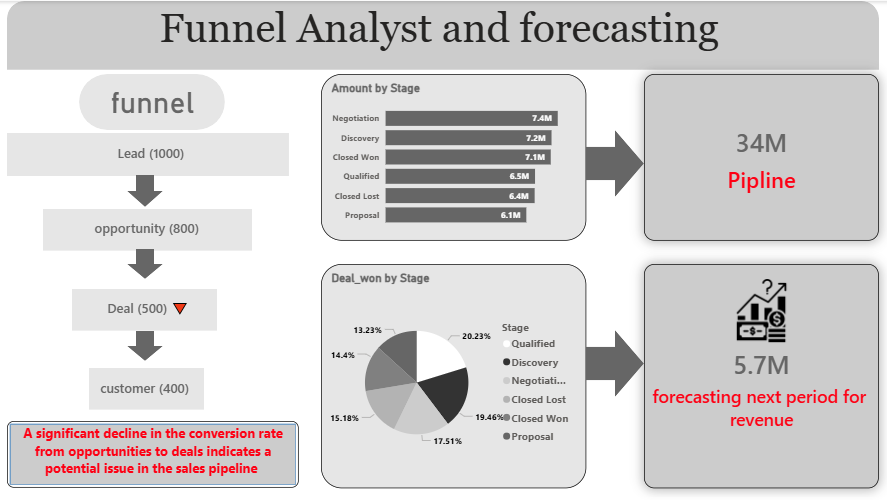

What the dashboard file says about the page in this screenshot:
{"tool":"powerbi","page":{"name":"Funnel & forecasting ","canvas":[1280,720],"ordinal":3},"visuals":[{"type":"shape","box":[10.1,0,1255.7,99.4],"z":0},{"type":"shape","box":[10.1,190.1,406.1,61.9],"z":1000},{"type":"shape","box":[61.9,299.5,301,60.5],"z":2000},{"type":"shape","box":[103.7,414.7,208.8,60.5],"z":3000},{"type":"shape","box":[128.2,528.5,165.6,60.5],"z":4000},{"type":"shape","box":[182.9,250.6,51.8,46.1],"z":5000},{"type":"shape","box":[182.9,357.1,51.8,43.2],"z":6000},{"type":"shape","box":[182.9,475.2,51.8,43.2],"z":7000},{"type":"textbox","box":[72,309.6,283.7,50.4],"z":8000},{"type":"textbox","box":[113.8,424.8,198.7,50.4],"z":9000},{"type":"textbox","box":[138.2,540,145.4,49],"z":10000},{"type":"textbox","box":[49,201.6,337,51.8],"z":11000},{"type":"shape","box":[113.8,105.1,210.2,80.6],"z":12000},{"type":"textbox","box":[138.2,116.6,174.2,69.1],"z":13000},{"type":"textbox","box":[49,0,1180.8,99.4],"z":14000},{"type":"pieChart","fields":{"Category":["Opportunities.Stage"],"Y":["Deals.Deal_won"]},"box":[462.2,378.7,381.6,322.6],"z":15000},{"type":"clusteredBarChart","title":" Amount by Stage","fields":{"Y":["Sum(Opportunities.Amount)"],"Category":["Opportunities.Stage"]},"box":[462.2,105.1,381.6,240.5],"z":16000},{"type":"card","fields":{"Values":["Opportunities.Pipline"]},"box":[927.4,105.1,338.4,240.5],"z":17000},{"type":"card","fields":{"Values":["Opportunities.forecasting next period for revenue"]},"box":[927.4,378.7,338.4,322.6],"z":18000},{"type":"shape","box":[843.8,185.8,83.5,96.5],"z":19000},{"type":"shape","box":[843.8,473.8,83.5,96.5],"z":20000},{"type":"shape","box":[10.1,604.8,420.5,96.5],"z":21000},{"type":"textbox","box":[24.5,604.8,391.7,85],"z":22000},{"type":"image","box":[946.1,400.3,301,90.7],"z":23000}]}

Visuals, with their boxes in screenshot pixels (x1, y1, x2, y2), scaled from the page's 1280x720 canvas onto the 887x500 screenshot:
shape: bbox=(7, 0, 877, 69)
shape: bbox=(7, 132, 288, 175)
shape: bbox=(43, 208, 251, 250)
shape: bbox=(72, 288, 217, 330)
shape: bbox=(89, 367, 204, 409)
shape: bbox=(127, 174, 163, 206)
shape: bbox=(127, 248, 163, 278)
shape: bbox=(127, 330, 163, 360)
textbox: bbox=(50, 215, 246, 250)
textbox: bbox=(79, 295, 217, 330)
textbox: bbox=(96, 375, 197, 409)
textbox: bbox=(34, 140, 267, 176)
shape: bbox=(79, 73, 225, 129)
textbox: bbox=(96, 81, 216, 129)
textbox: bbox=(34, 0, 852, 69)
pieChart - Opportunities.Stage x Deals.Deal_won: bbox=(320, 263, 585, 487)
" Amount by Stage" clusteredBarChart: bbox=(320, 73, 585, 240)
card - Opportunities.Pipline: bbox=(643, 73, 877, 240)
card - Opportunities.forecasting next period for revenue: bbox=(643, 263, 877, 487)
shape: bbox=(585, 129, 643, 196)
shape: bbox=(585, 329, 643, 396)
shape: bbox=(7, 420, 298, 487)
textbox: bbox=(17, 420, 288, 479)
image: bbox=(656, 278, 864, 341)
